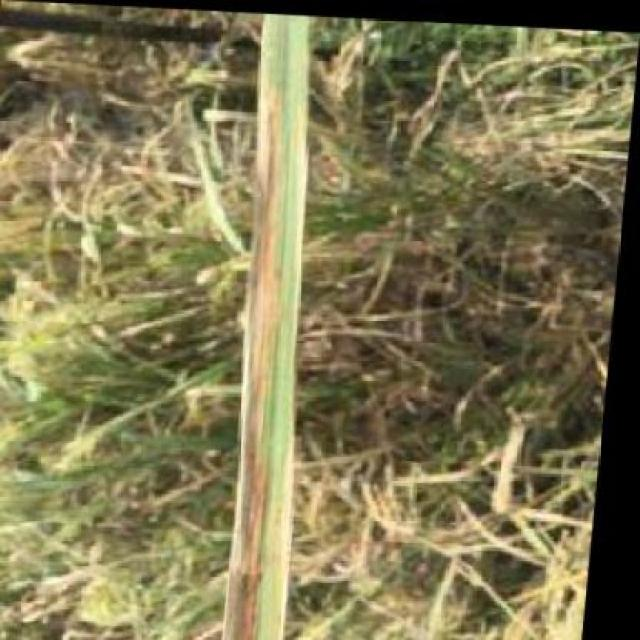Brown_Spot: (210, 71, 321, 634)
